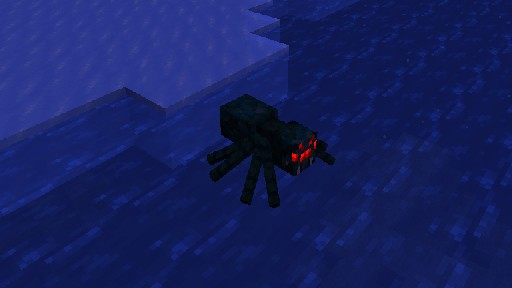cave_spider: (206, 92, 335, 208)
